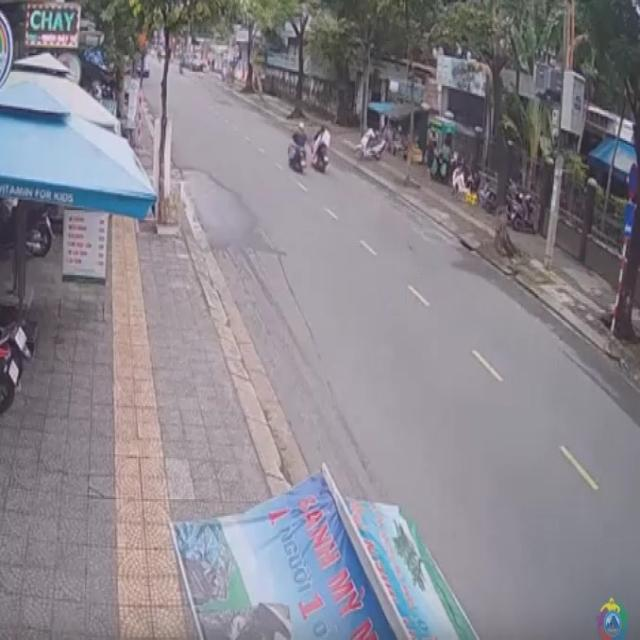motorbike: (289, 124, 309, 175), (312, 127, 329, 174)
